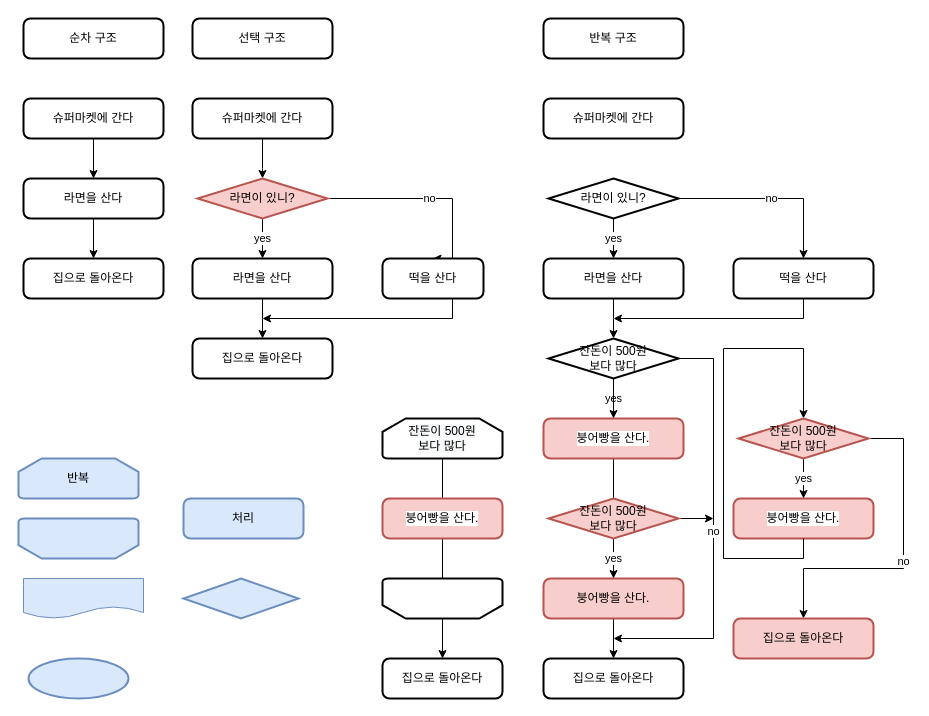
This 929x716 diagram has some shape labels left out. The box of each missing label's shape, as (x1, y1, x2, y2) in pixels:
분기: (182, 577, 299, 619)
시작 / 끝: (27, 657, 129, 699)
출력: (22, 578, 144, 618)
